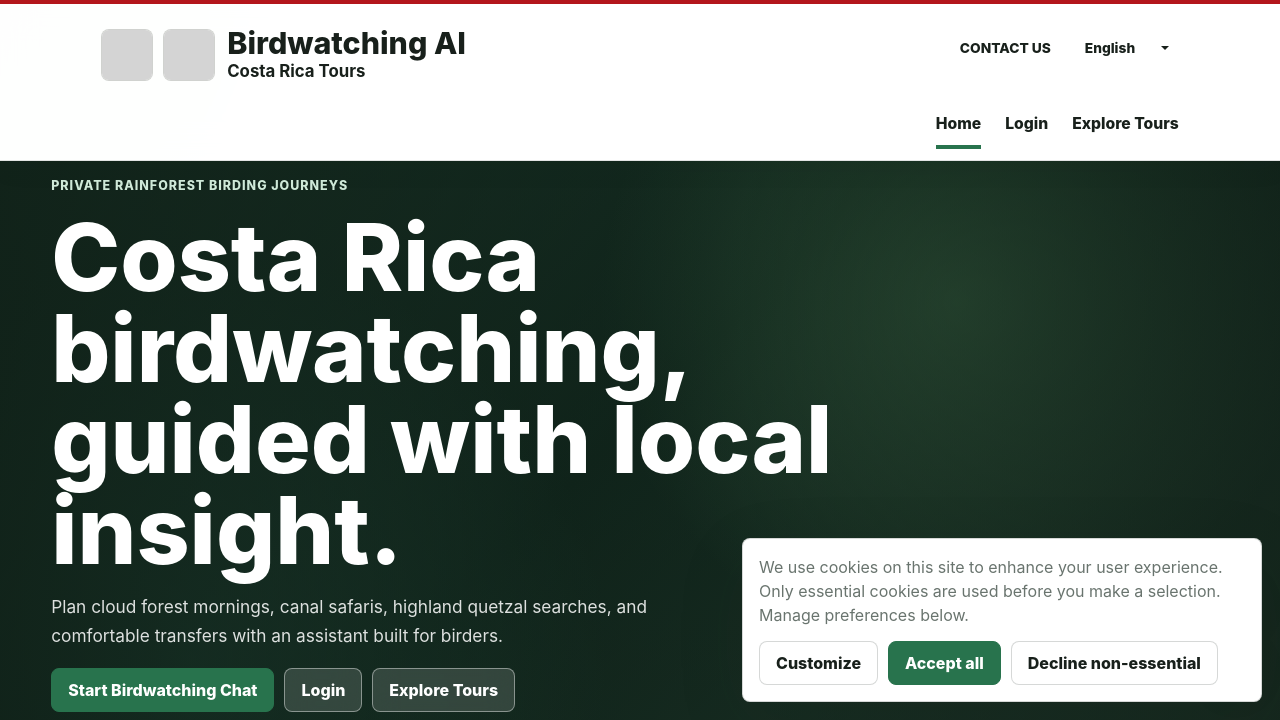
Test: App authentication flow › opens the existing auth flow in a homepage modal
Click the button "Login" next to "Home": (1027, 124) x1=1005 y1=100 x2=1048 y2=148
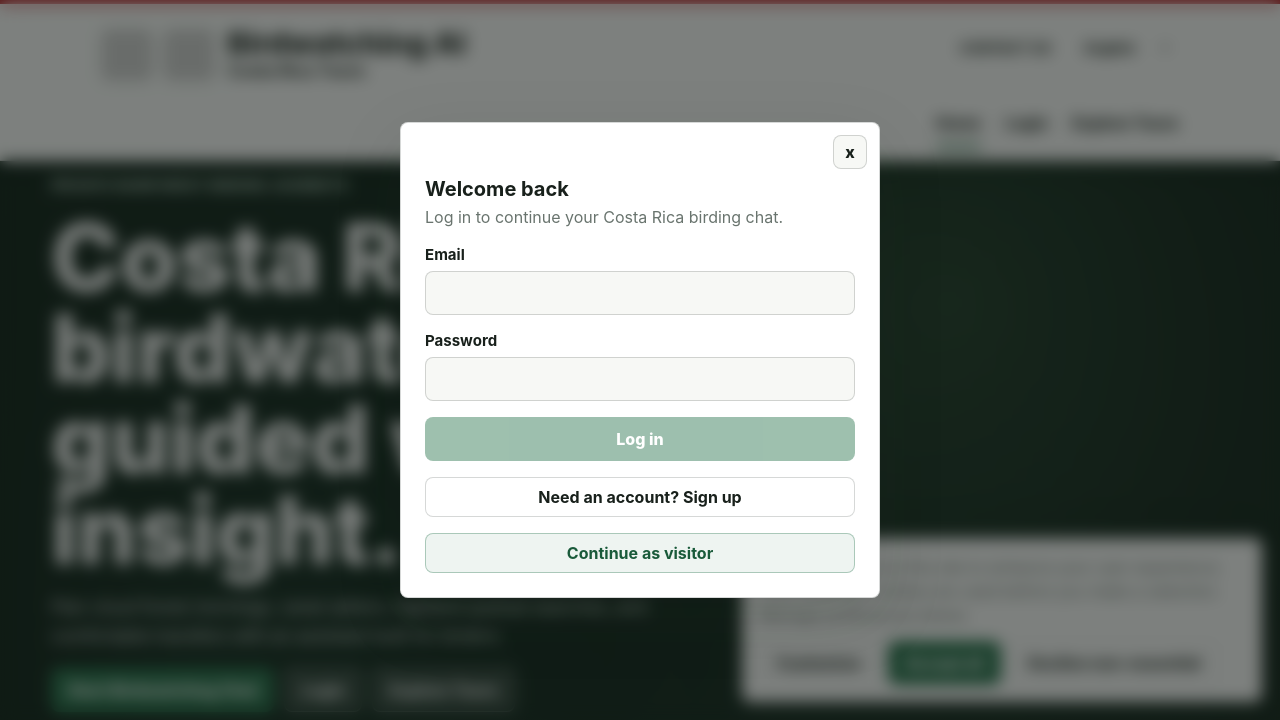
Expected: the heading "Costa Rica birdwatching, guided with local insight." is shown, x1=51 y1=212 x2=871 y2=576
Result: the dialog "Welcome back" is shown at x1=400 y1=122 x2=880 y2=598
Result: the heading "Welcome back" is shown at x1=425 y1=177 x2=569 y2=201
